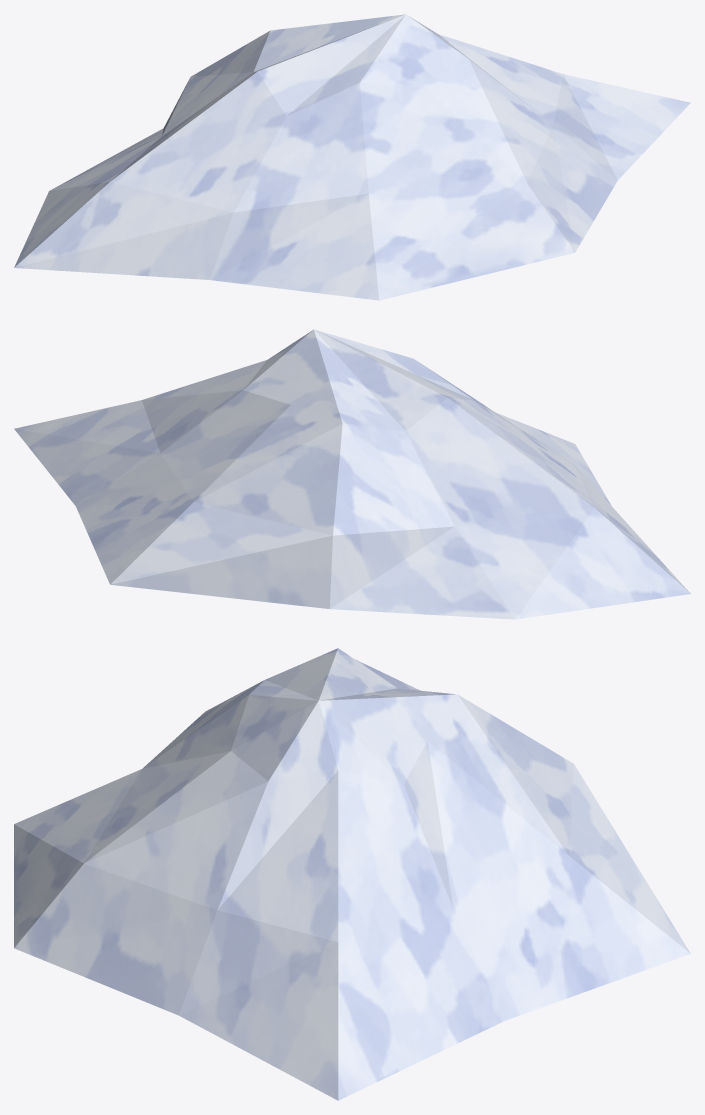
The model's file is drift_small.glb.
3 renders of one model, top to bottom at view 1: azimuth 30°, elevation 25°; view 2: azimuth 150°, elevation 25°; view 3: azimuth 270°, elevation 25°, orthographic. The views are drawn at different scales.
Parts seen in each view (by area): view 1: winter_drift_small; view 2: winter_drift_small; view 3: winter_drift_small.
Boxes of the visible parts, <box> form: winter_drift_small: <box>14,14,690,300</box>; winter_drift_small: <box>14,329,690,619</box>; winter_drift_small: <box>14,648,690,1100</box>.
Bounding box in the file's own units: 1.2 × 0.28 × 0.8.
1 material, 1 textured.
